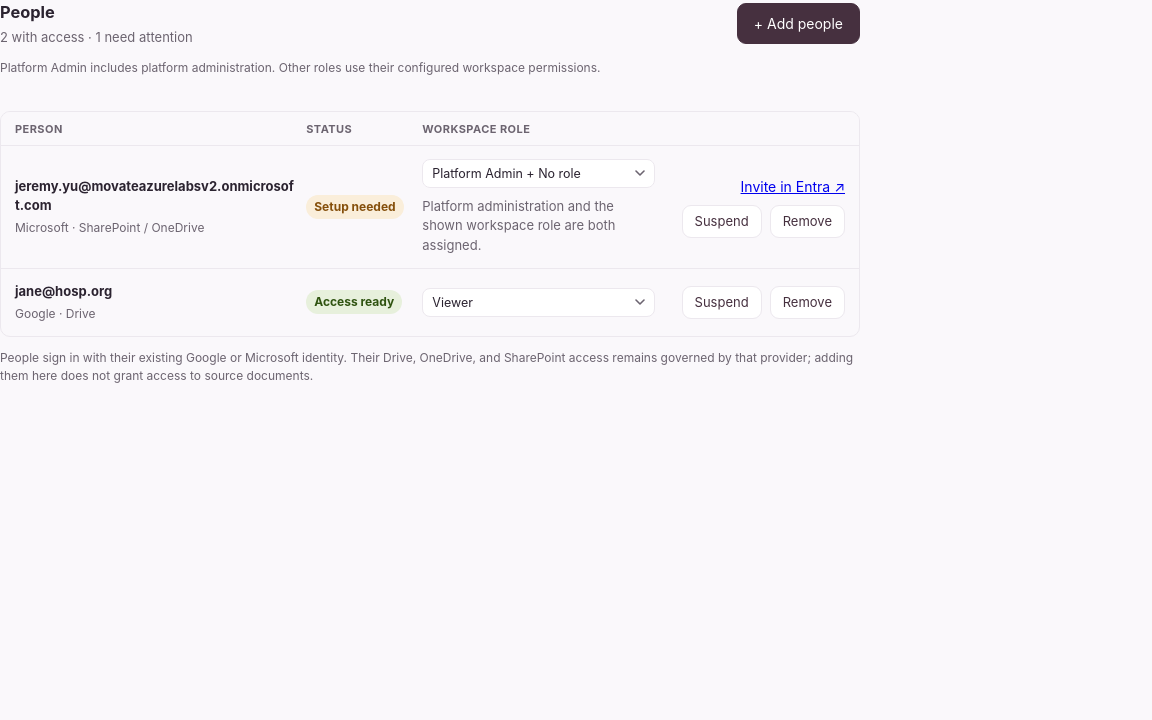
the add-person dialog escapes too › renders at document.body, not inside the People section
The image size is (1152, 720).
Click the button "+ Add people" at (798, 24), box [737,3,860,44]
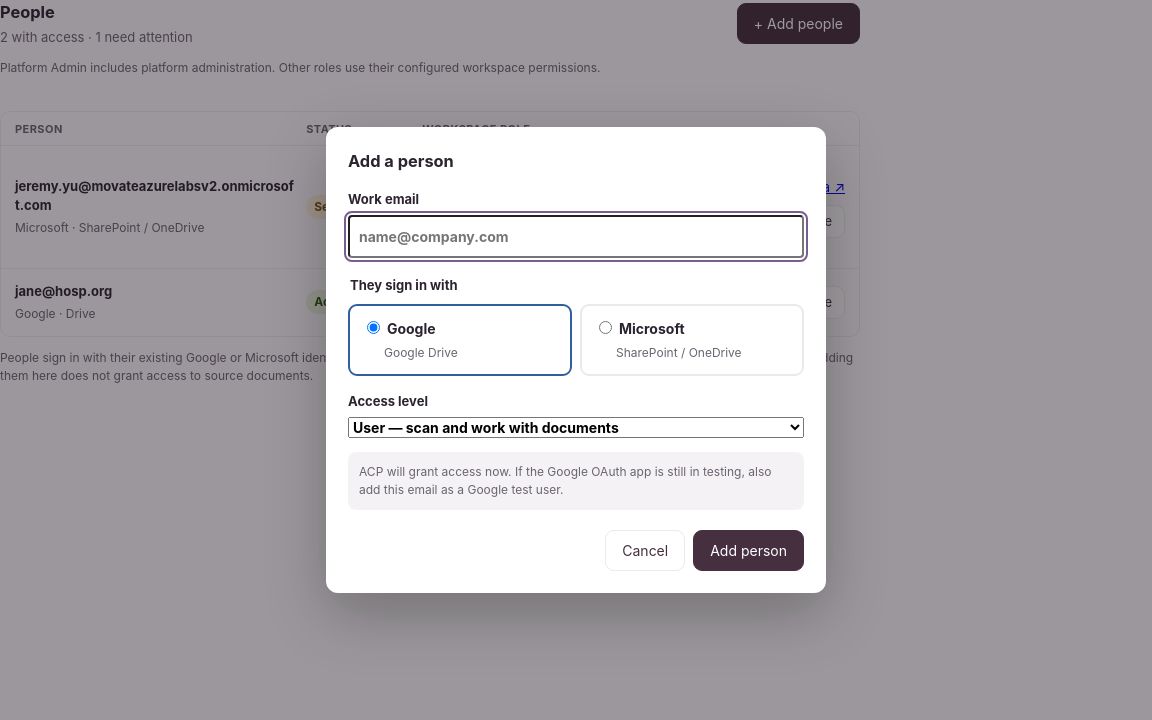
Expected: the dialog is shown, [326,127,826,593]
